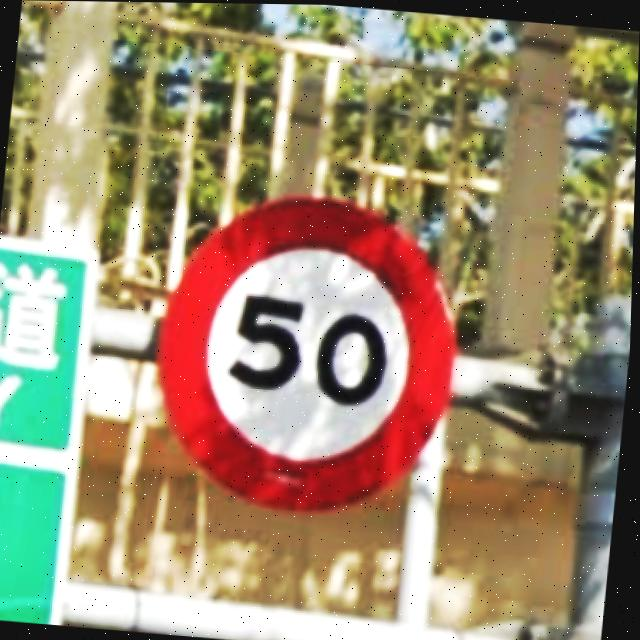max50: (140, 178, 475, 523)
